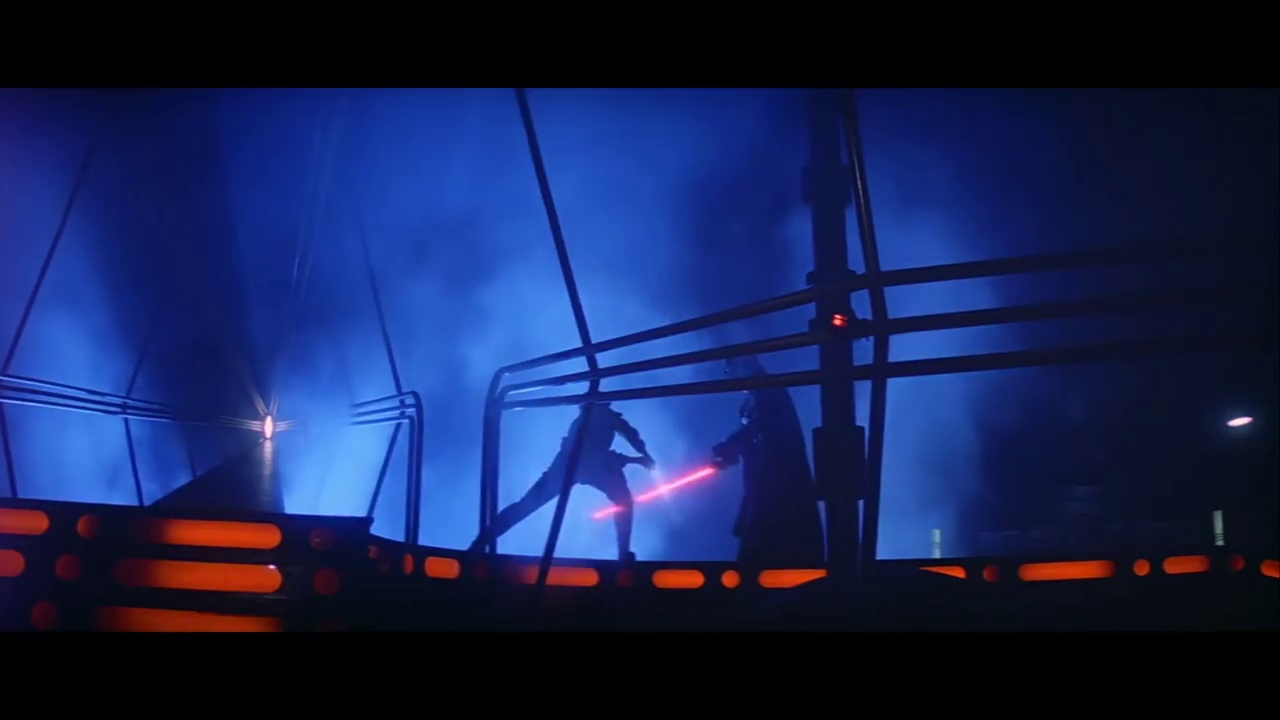lightsaber: (599, 454, 730, 527)
